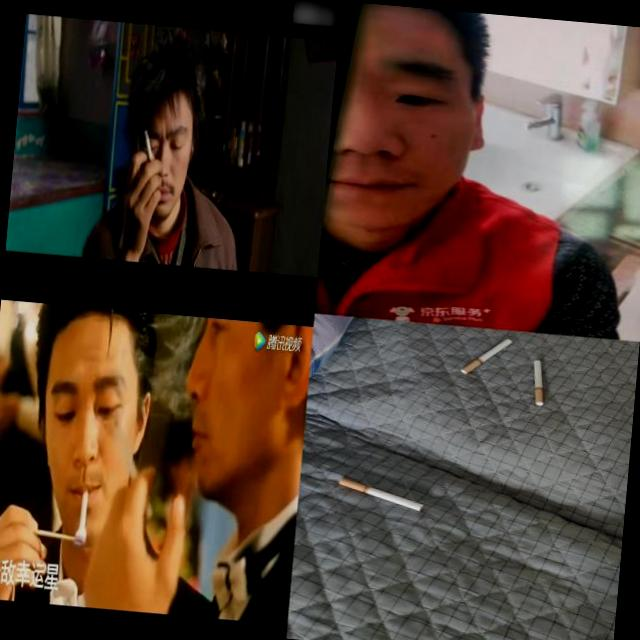cigarette: (336, 477, 426, 512), (460, 335, 513, 378), (529, 359, 548, 406), (140, 128, 156, 164), (78, 488, 90, 531)
